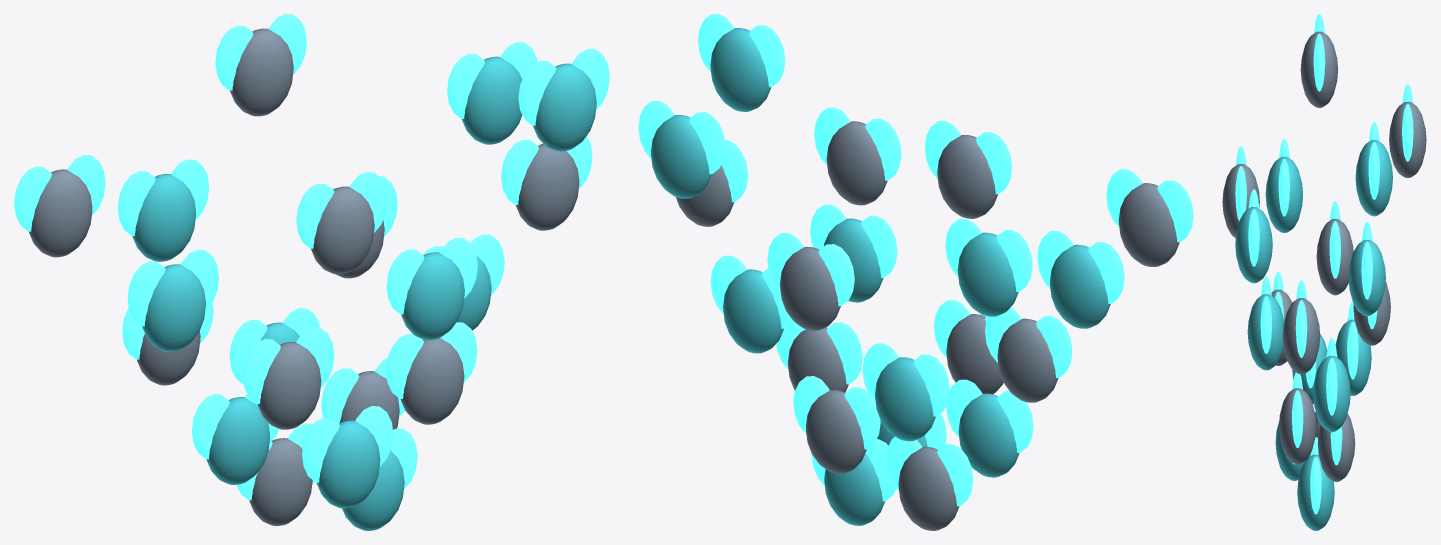
File: swarm_v4.glb
3 renders of one model, left to right at view 1: azimuth 30°, elevation 25°; view 2: azimuth 150°, elevation 25°; view 3: azimuth 270°, elevation 25°, orthographic. The views are drawn at different scales.
Visible parts, largest first — view 1: BEE_ACCENT.009, BEE_ACCENT.001, BEE_PRIMARY.009, BEE_PRIMARY.007, BEE_PRIMARY.008, BEE_ACCENT.005, BEE_ACCENT.006, BEE_PRIMARY.003, BEE_ACCENT.007, BEE_ACCENT.002, BEE_PRIMARY.002, BEE_PRIMARY.006 (+37 smaller); view 2: BEE_ACCENT.004, BEE_ACCENT.003, BEE_PRIMARY.004, BEE_PRIMARY.009, BEE_PRIMARY, BEE_ACCENT.009, BEE_PRIMARY.005, BEE_ACCENT.007, BEE_PRIMARY.007, BEE_PRIMARY.008, BEE_ACCENT.006, BEE_PRIMARY.001 (+40 smaller); view 3: BEE_ACCENT.004, BEE_ACCENT.009, BEE_ACCENT.007, BEE_PRIMARY.002, BEE_PRIMARY.009, BEE_ACCENT.008, BEE_PRIMARY.008, BEE_ACCENT.006, BEE_PRIMARY.006, BEE_ACCENT.005, BEE_PRIMARY.004, BEE_ACCENT (+22 smaller).
Boxes of the visible parts, bbox=[...] form: BEE_ACCENT.009: bbox=[533, 63, 596, 151]; BEE_ACCENT.001: bbox=[316, 420, 380, 508]; BEE_PRIMARY.009: bbox=[230, 28, 293, 116]; BEE_PRIMARY.007: bbox=[311, 186, 374, 274]; BEE_PRIMARY.008: bbox=[29, 169, 92, 257]; BEE_ACCENT.005: bbox=[401, 252, 464, 340]; BEE_ACCENT.006: bbox=[142, 264, 205, 351]; BEE_PRIMARY.003: bbox=[257, 342, 321, 429]; BEE_ACCENT.007: bbox=[132, 174, 195, 261]; BEE_ACCENT.002: bbox=[206, 397, 269, 484]; BEE_PRIMARY.002: bbox=[400, 338, 464, 424]; BEE_PRIMARY.006: bbox=[515, 144, 579, 230]; BEE_ACCENT.004: bbox=[723, 269, 783, 353]; BEE_ACCENT.003: bbox=[875, 357, 935, 441]; BEE_PRIMARY.004: bbox=[997, 318, 1058, 402]; BEE_PRIMARY.009: bbox=[826, 121, 887, 205]; BEE_PRIMARY: bbox=[898, 447, 959, 530]; BEE_ACCENT.009: bbox=[710, 28, 771, 111]; BEE_PRIMARY.005: bbox=[780, 246, 840, 330]; BEE_ACCENT.007: bbox=[957, 232, 1018, 316]; BEE_PRIMARY.007: bbox=[937, 135, 997, 218]; BEE_PRIMARY.008: bbox=[1118, 183, 1179, 266]; BEE_ACCENT.006: bbox=[1050, 244, 1110, 328]; BEE_PRIMARY.001: bbox=[806, 390, 866, 473]; BEE_ACCENT.004: bbox=[1313, 355, 1350, 432]; BEE_ACCENT.009: bbox=[1235, 207, 1272, 283]; BEE_ACCENT.007: bbox=[1355, 140, 1392, 216]; BEE_PRIMARY.002: bbox=[1279, 388, 1316, 464]; BEE_PRIMARY.009: bbox=[1389, 101, 1426, 177]; BEE_ACCENT.008: bbox=[1348, 239, 1385, 315]; BEE_PRIMARY.008: bbox=[1300, 31, 1338, 107]; BEE_ACCENT.006: bbox=[1265, 156, 1302, 232]; BEE_PRIMARY.006: bbox=[1283, 298, 1320, 374]; BEE_ACCENT.005: bbox=[1247, 294, 1284, 370]; BEE_PRIMARY.004: bbox=[1316, 219, 1353, 295]; BEE_ACCENT: bbox=[1297, 454, 1334, 530].
Size of the model in its own units: 2.36 by 1.93 by 0.8705.
